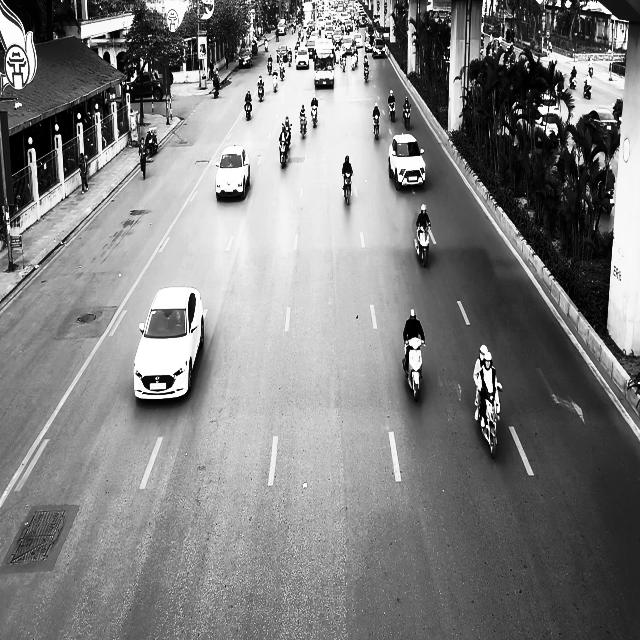car: (133, 286, 204, 401), (388, 134, 426, 190), (215, 144, 250, 200), (125, 71, 163, 103), (584, 108, 618, 142), (238, 48, 253, 68)
motorbike: (474, 381, 502, 458), (402, 337, 425, 401), (415, 222, 431, 266), (342, 172, 352, 204), (279, 136, 289, 168), (402, 105, 411, 129), (310, 102, 318, 127), (372, 116, 380, 139), (244, 97, 252, 120), (299, 116, 307, 138), (388, 101, 396, 121), (583, 81, 591, 99), (272, 70, 278, 91), (258, 83, 264, 102), (364, 64, 369, 82)
